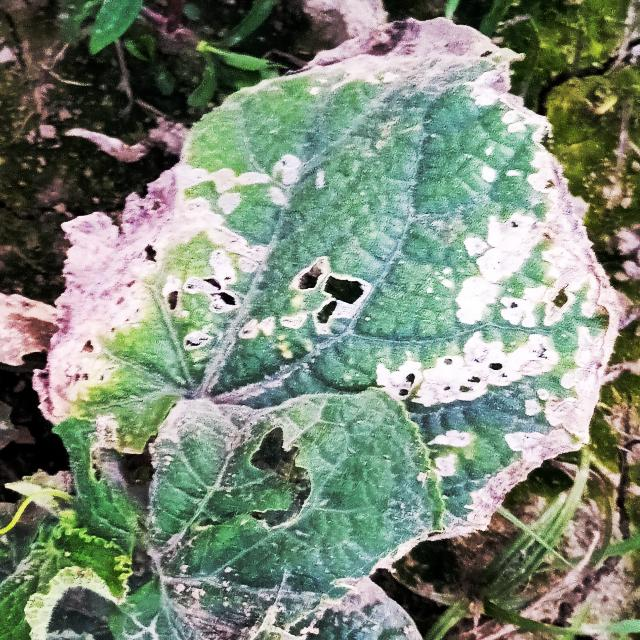Anthracnose: (140, 239, 374, 355), (246, 421, 316, 537)
